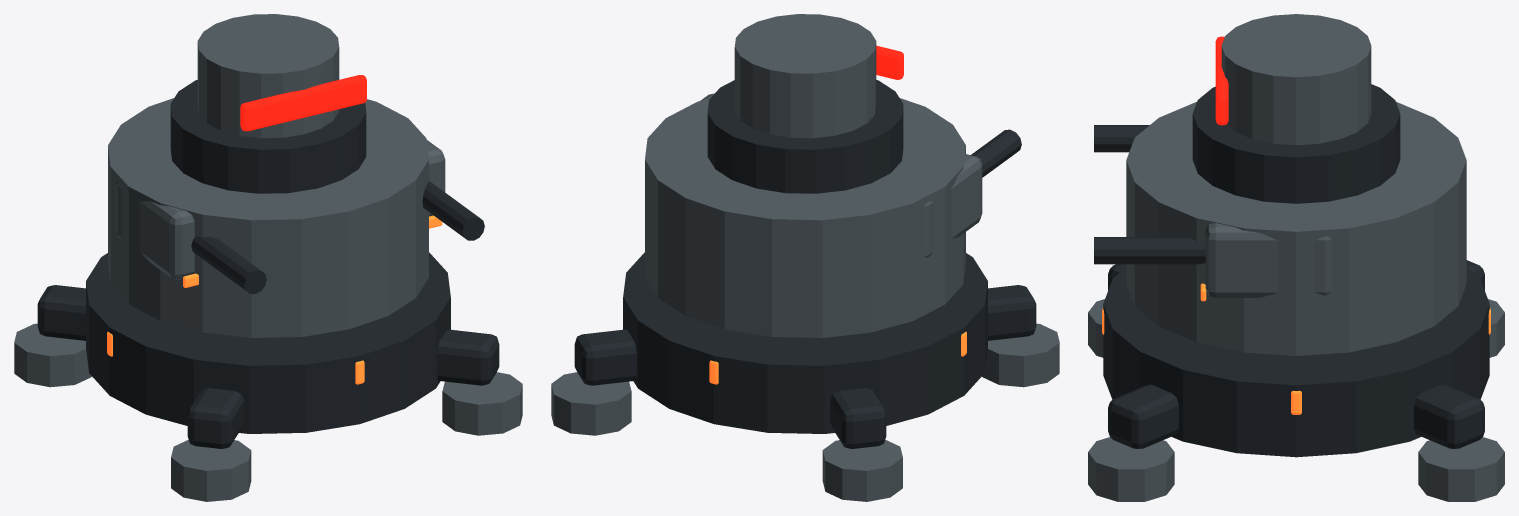
Rendered from ground-sentry-drone-v1.glb.
3 views of the same model, side by side, from view 1: azimuth 30°, elevation 25°; view 2: azimuth 150°, elevation 25°; view 3: azimuth 270°, elevation 25° (orthographic). The views are drawn at different scales.
Visible parts, largest first — view 1: ground_sentry_drone__lod0__Sentry weathered armor, ground_sentry_drone__lod0__Sentry dark mechanism, ground_sentry_drone__lod0__Sentry hostile optics, ground_sentry_drone__lod0__Sentry hazard marking; view 2: ground_sentry_drone__lod0__Sentry weathered armor, ground_sentry_drone__lod0__Sentry dark mechanism, ground_sentry_drone__lod0__Sentry hostile optics; view 3: ground_sentry_drone__lod0__Sentry weathered armor, ground_sentry_drone__lod0__Sentry dark mechanism, ground_sentry_drone__lod0__Sentry hostile optics, ground_sentry_drone__lod0__Sentry hazard marking.
Boxes of the visible parts, x1=… form: ground_sentry_drone__lod0__Sentry weathered armor: x1=14, y1=14, x2=522, y2=501; ground_sentry_drone__lod0__Sentry dark mechanism: x1=37, y1=80, x2=499, y2=448; ground_sentry_drone__lod0__Sentry hostile optics: x1=240, y1=75, x2=366, y2=131; ground_sentry_drone__lod0__Sentry hazard marking: x1=107, y1=215, x2=442, y2=384; ground_sentry_drone__lod0__Sentry weathered armor: x1=551, y1=14, x2=1059, y2=501; ground_sentry_drone__lod0__Sentry dark mechanism: x1=574, y1=80, x2=1036, y2=448; ground_sentry_drone__lod0__Sentry hostile optics: x1=876, y1=45, x2=903, y2=79; ground_sentry_drone__lod0__Sentry weathered armor: x1=1088, y1=14, x2=1504, y2=501; ground_sentry_drone__lod0__Sentry dark mechanism: x1=1094, y1=84, x2=1489, y2=457; ground_sentry_drone__lod0__Sentry hostile optics: x1=1215, y1=36, x2=1228, y2=125; ground_sentry_drone__lod0__Sentry hazard marking: x1=1102, y1=283, x2=1490, y2=414.
Bounding box in the file's own units: 2.86 × 2.83 × 2.89.
